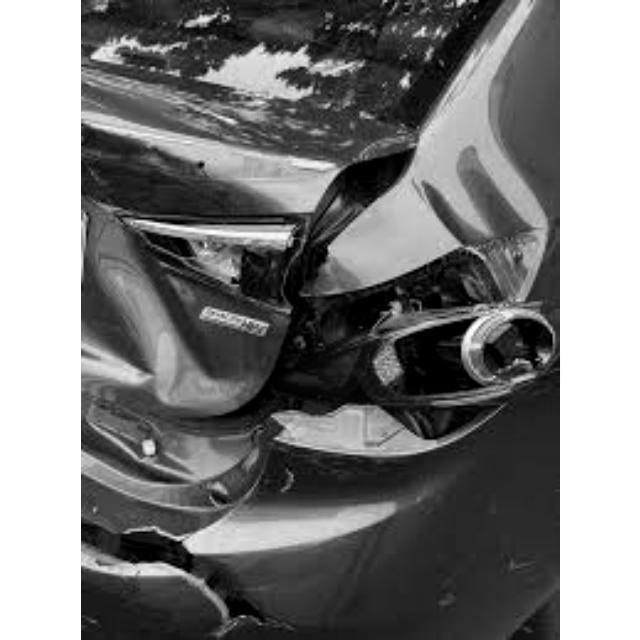Taillight-Damage: (189, 230, 559, 436)
boot-dent: (80, 115, 404, 514)
rear-bumper-dent: (81, 514, 318, 640)
